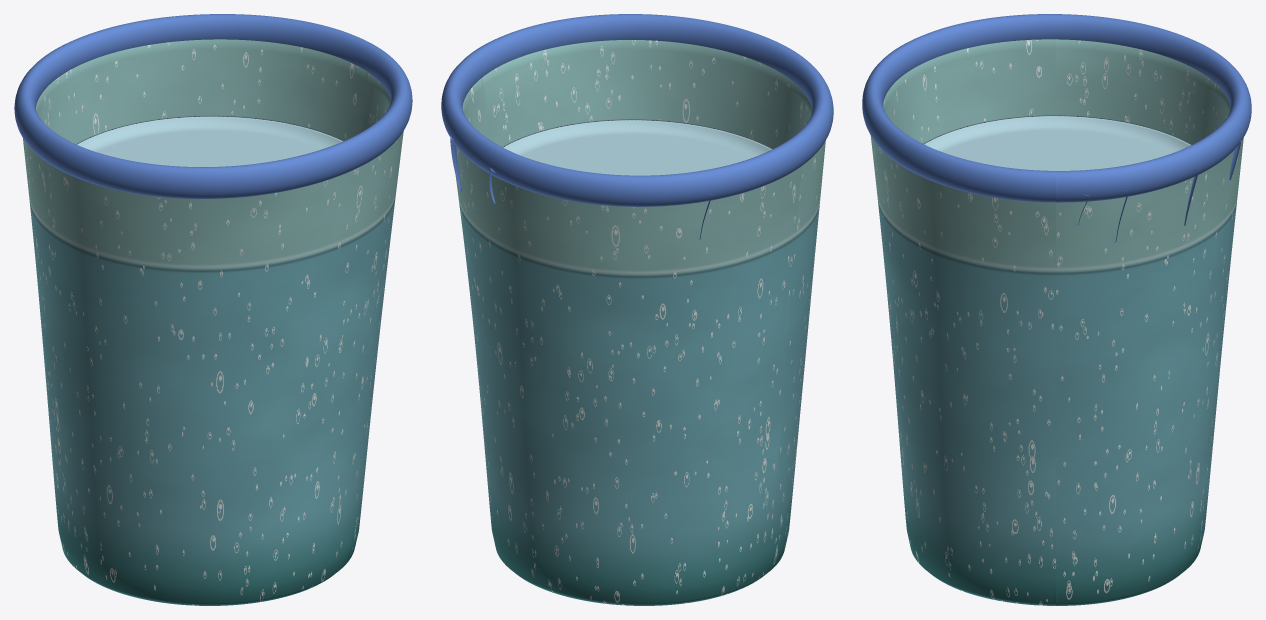
The model's file is water_glass.glb.
The picture shows the model from 3 angles, left to right: view 1: azimuth 30°, elevation 25°; view 2: azimuth 150°, elevation 25°; view 3: azimuth 270°, elevation 25°; orthographic projection.
Parts seen in each view (by area): view 1: water_glass; view 2: water_glass; view 3: water_glass.
Part boxes in pixels (left/top/right/bottom): water_glass: left=14, top=14, right=412, bottom=605; water_glass: left=441, top=14, right=833, bottom=605; water_glass: left=862, top=14, right=1251, bottom=605.
Bounding box in the file's own units: 0.071 × 0.0902 × 0.0693.
3 materials, 1 textured.
